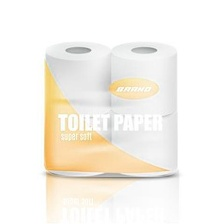tissue: (34, 31, 186, 184)
